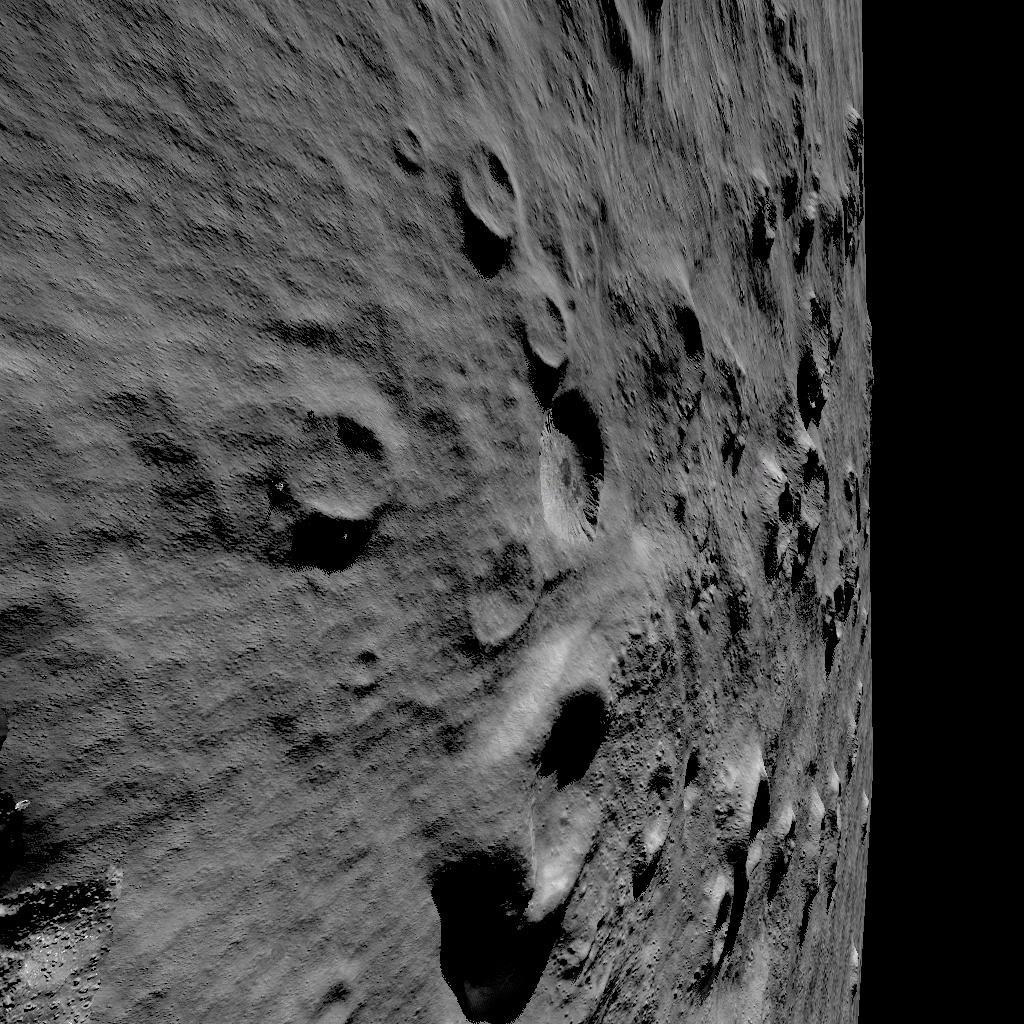Crater: (413, 625, 608, 985), (448, 138, 606, 542), (628, 722, 846, 982), (761, 302, 855, 642), (526, 0, 828, 100), (644, 292, 738, 488), (268, 410, 390, 535), (744, 138, 856, 268)
Plan surface: (0, 0, 386, 395), (54, 565, 370, 1024), (0, 422, 198, 542)
